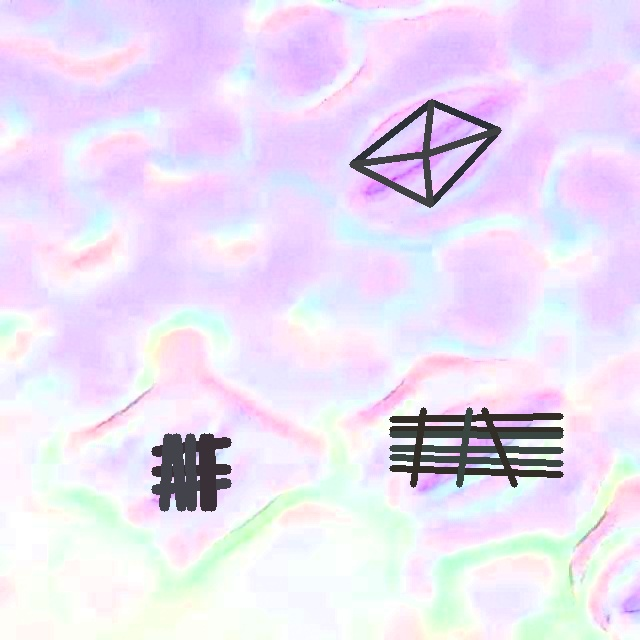open: (350, 100, 500, 207), (390, 408, 563, 487), (151, 433, 230, 511)
